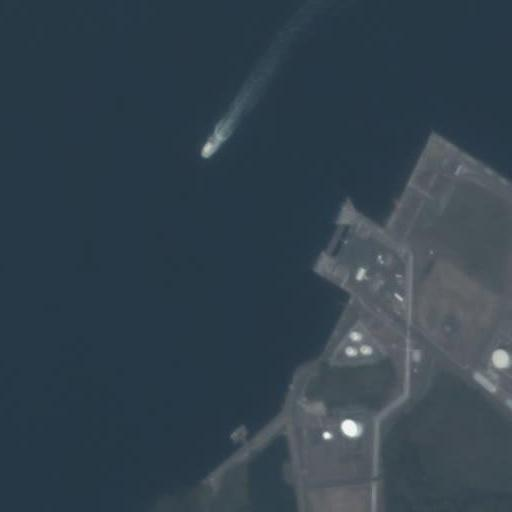person: (200, 141, 216, 158)
